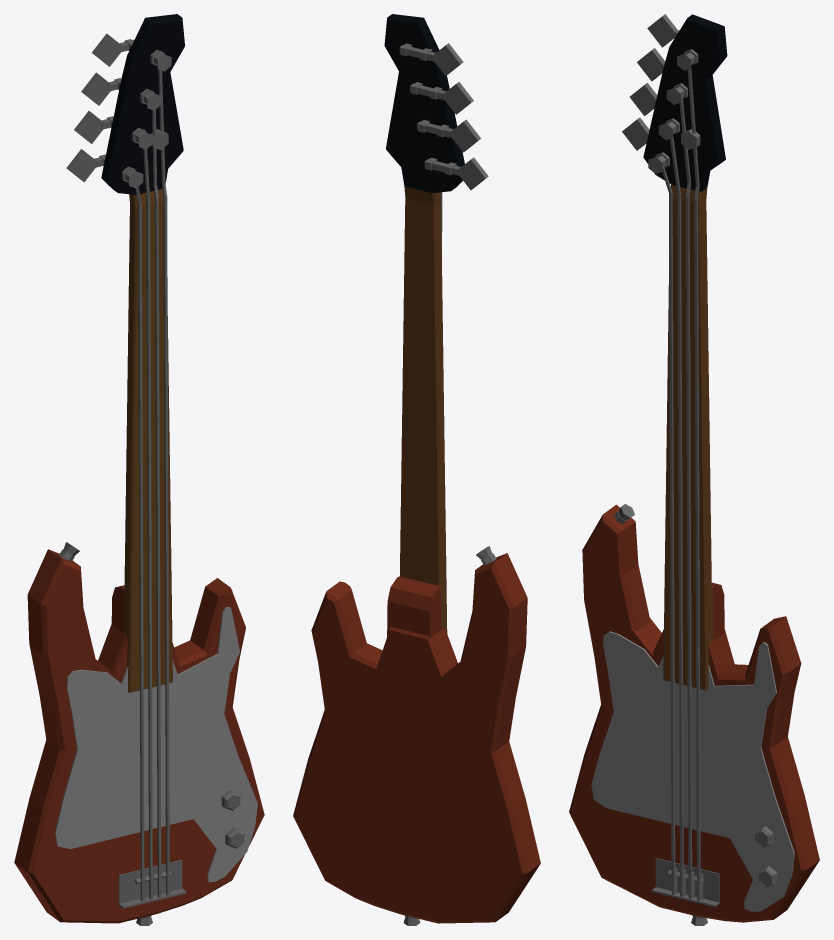
Rendered from Bass1.glb.
3 views of the same model, side by side, from view 1: azimuth 30°, elevation 25°; view 2: azimuth 150°, elevation 25°; view 3: azimuth 330°, elevation 25° (orthographic).
Parts seen in each view (by area): view 1: Bass1; view 2: Bass1; view 3: Bass1.
Part boxes in pixels (<box>): Bass1: <box>14,14,264,925</box>; Bass1: <box>293,14,540,925</box>; Bass1: <box>569,14,819,925</box>.
Bounding box in the file's own units: 0.4218 × 1.55 × 0.0812.
